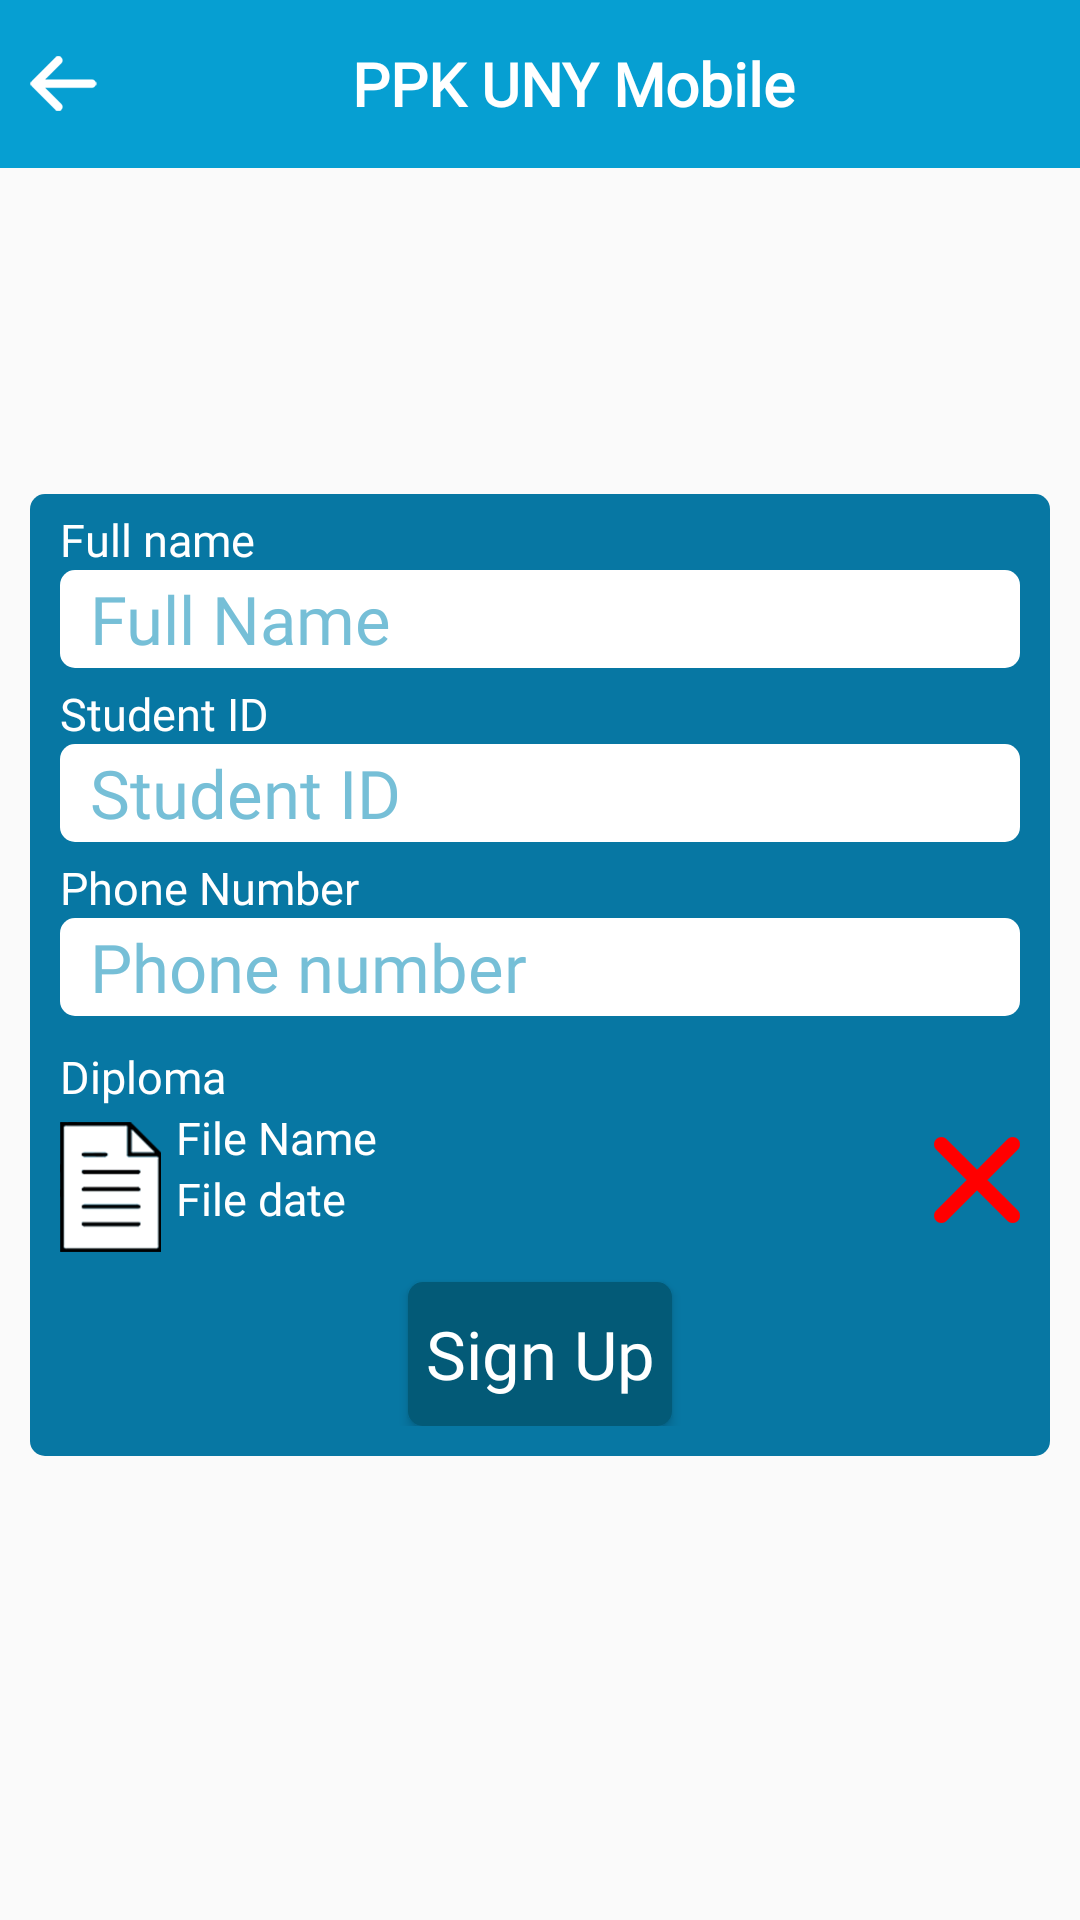

Where icons sit on this 1080px×1920px app screen, as BBox(x1, y1, x2, y2):
back: BBox(30, 56, 97, 111)
document: BBox(60, 1122, 161, 1252)
